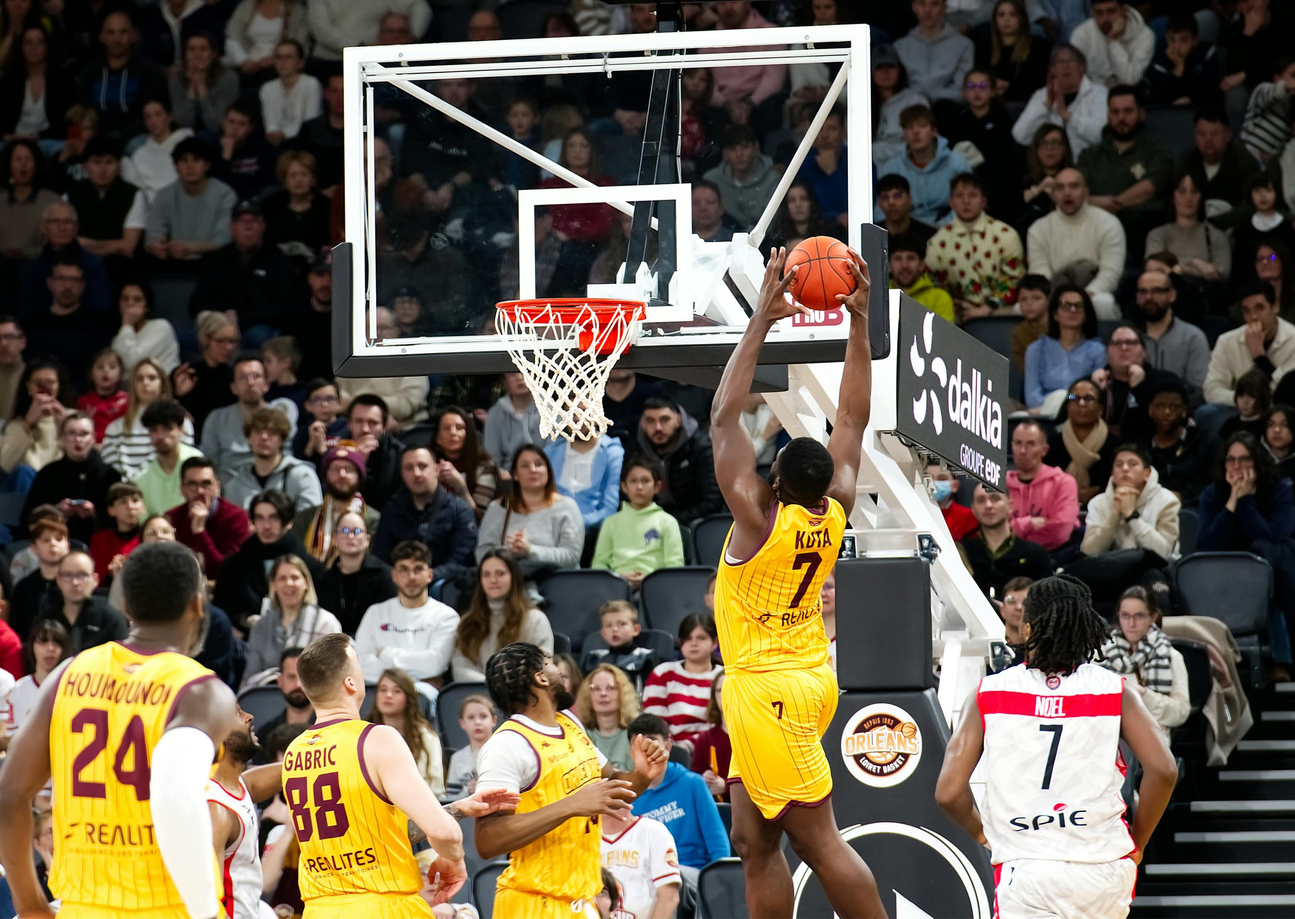basketball: (786, 233, 859, 308)
